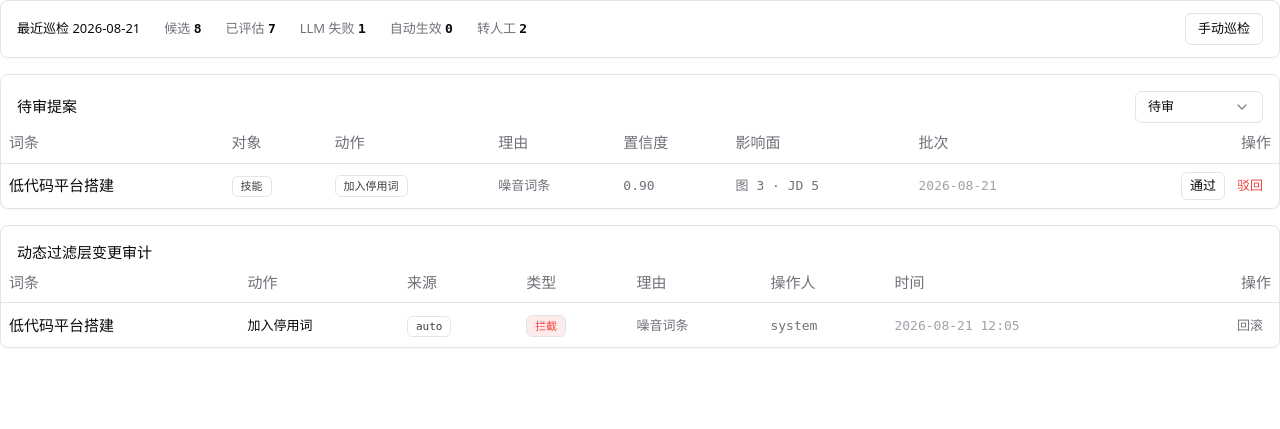
Test: DictGuardTab 字典守卫 › 手动巡检按钮触发一次字典守卫任务并重载报告
Expected: the text "最近巡检 2026-08-21" is shown, [17, 20, 140, 38]
Click the button "手动巡检" at (1224, 29), box [1185, 13, 1263, 45]
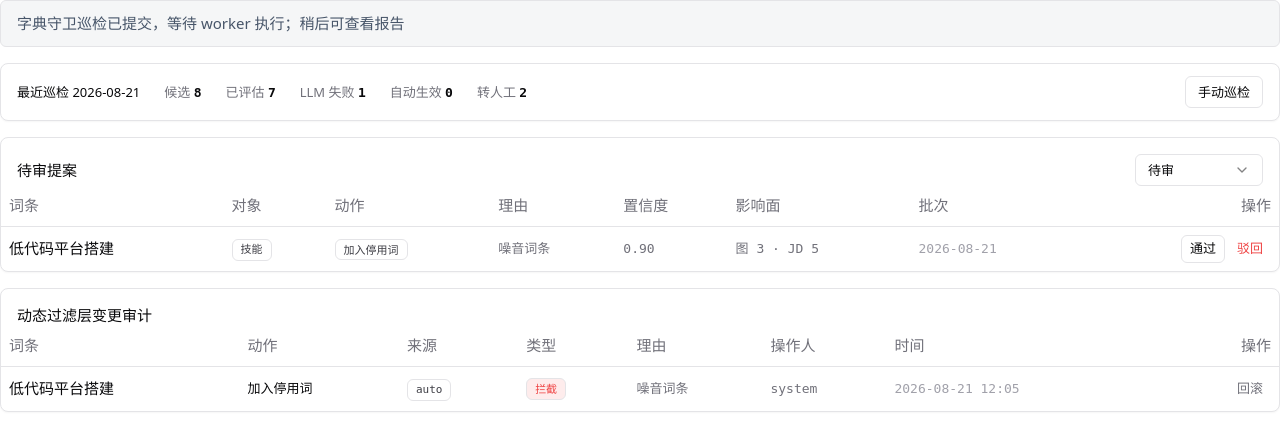
Expected: the text "字典守卫巡检已提交，等待 worker 执行；稍后可查看报告" is shown, [0, 0, 1279, 47]
